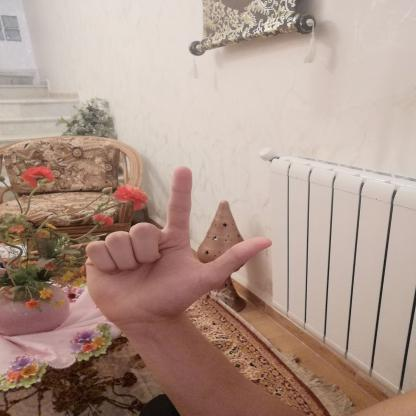LAAM: (64, 158, 283, 335)
